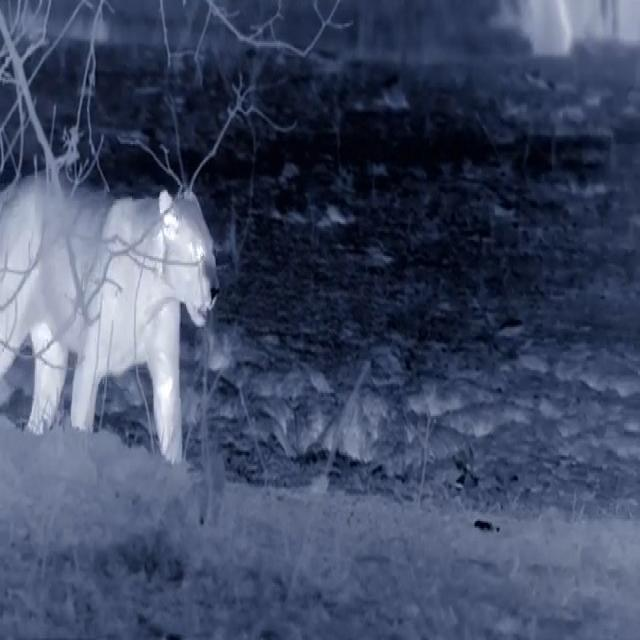animal: (2, 141, 236, 503)
